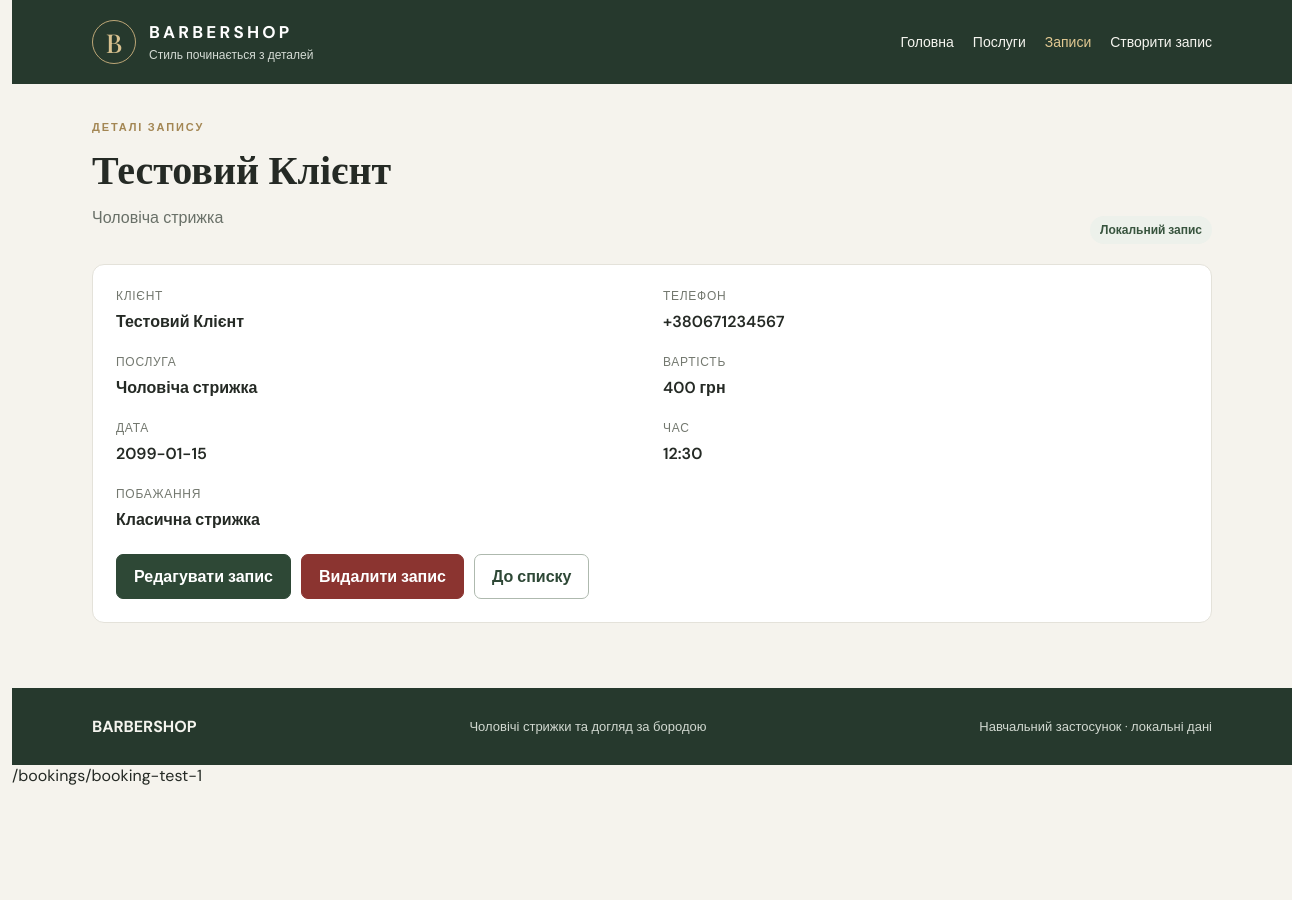
відмова видалення залишає запис і адресу
Expected: the heading "Тестовий Клієнт" is shown, [92,146,391,191]
Click the button "Видалити запис": click(382, 576) [301,554,464,599]
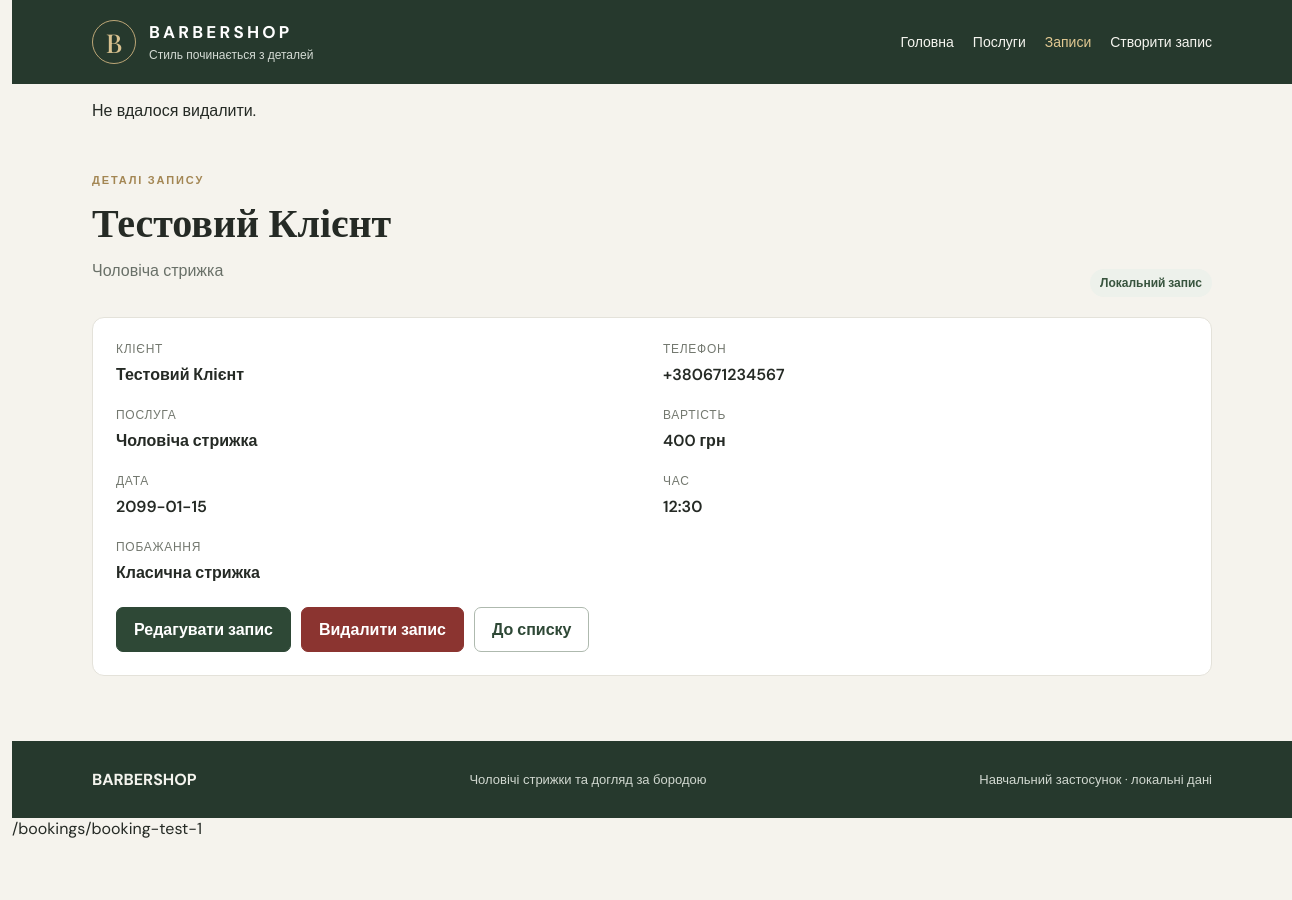
Expected: the heading "Тестовий Клієнт" is shown, [92,199,391,244]
Expected: the message reads "Не вдалося видалити.", [92,100,256,121]
